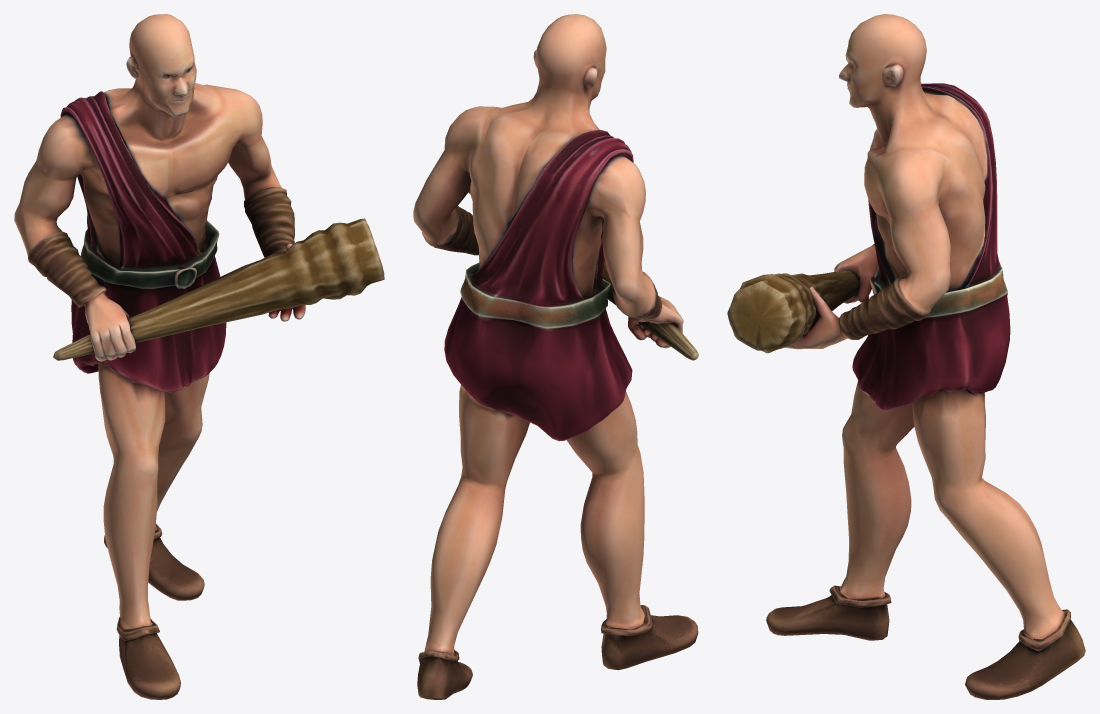
The model's file is MZ4250 - Brute with Club.glb.
3 renders of one model, left to right at view 1: azimuth 30°, elevation 25°; view 2: azimuth 150°, elevation 25°; view 3: azimuth 270°, elevation 25°, orthographic. The views are drawn at different scales.
Visible parts, largest first — view 1: body_low.001, mace_low.001; view 2: body_low.001, mace_low.001; view 3: body_low.001, mace_low.001.
Boxes of the visible parts, box(x1,y1,x2,y2) form: body_low.001: box(14, 14, 305, 699); mace_low.001: box(53, 218, 384, 360); body_low.001: box(413, 14, 698, 699); mace_low.001: box(468, 189, 698, 360); body_low.001: box(766, 14, 1085, 699); mace_low.001: box(727, 270, 859, 353).
Size of the model in its own units: 2.99 by 6.49 by 3.29.
Materials: 1 (1 with a texture image).
